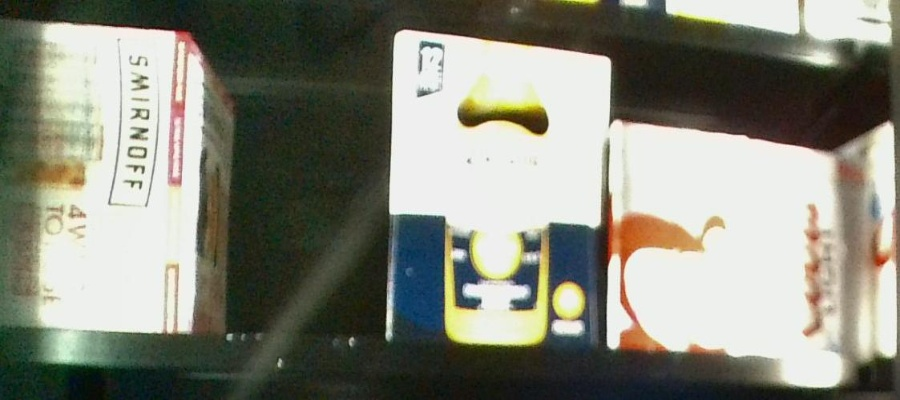bottle: (1, 18, 231, 335), (393, 26, 607, 344), (613, 114, 846, 366)
